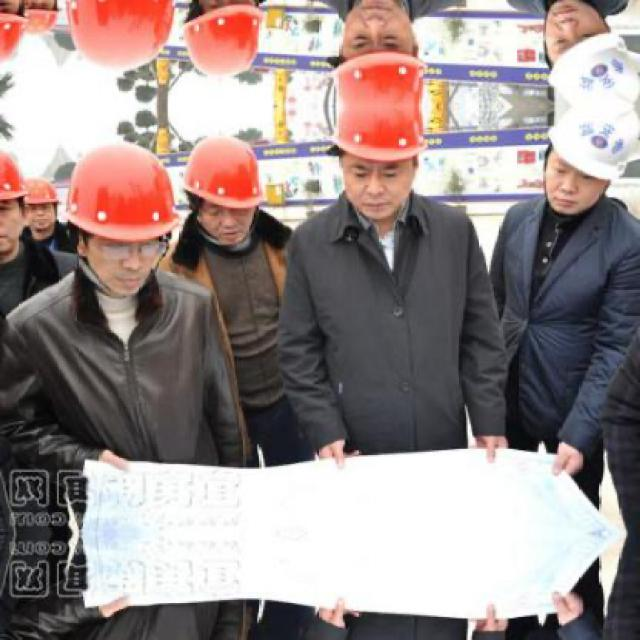helmet: (66, 153, 169, 288), (177, 133, 268, 259), (337, 108, 429, 220), (336, 0, 430, 106), (538, 110, 630, 218), (538, 0, 631, 105), (177, 0, 269, 82), (66, 0, 171, 62), (20, 167, 57, 242), (2, 142, 23, 261), (18, 0, 57, 48), (0, 0, 23, 72)
